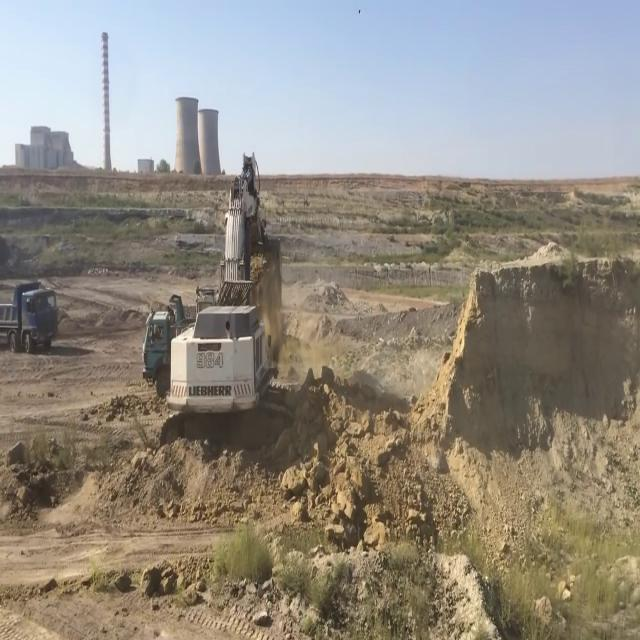excavator: (159, 151, 288, 425)
